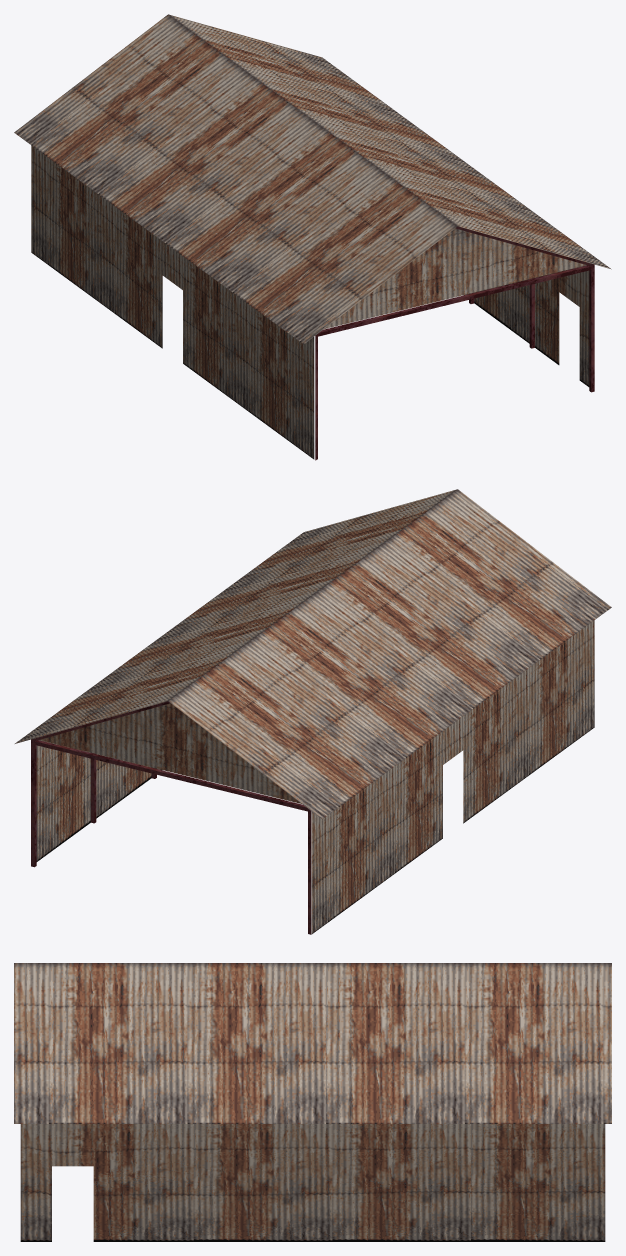
The model's file is big_shed2.glb.
The picture shows the model from 3 angles, top to bottom: view 1: azimuth 30°, elevation 25°; view 2: azimuth 150°, elevation 25°; view 3: azimuth 270°, elevation 25°; orthographic projection. The views are drawn at different scales.
Parts seen in each view (by area): view 1: Shed A, Shed A Frame; view 2: Shed A, Shed A Frame; view 3: Shed A.
Boxes of the visible parts, bbox=[...] form: Shed A: bbox=[14, 14, 611, 459]; Shed A Frame: bbox=[315, 226, 594, 460]; Shed A: bbox=[15, 489, 611, 934]; Shed A Frame: bbox=[31, 701, 311, 934]; Shed A: bbox=[14, 963, 611, 1241].
Bounding box in the file's own units: 8.8 × 5.5 × 14.32.
2 materials, 2 textured.
